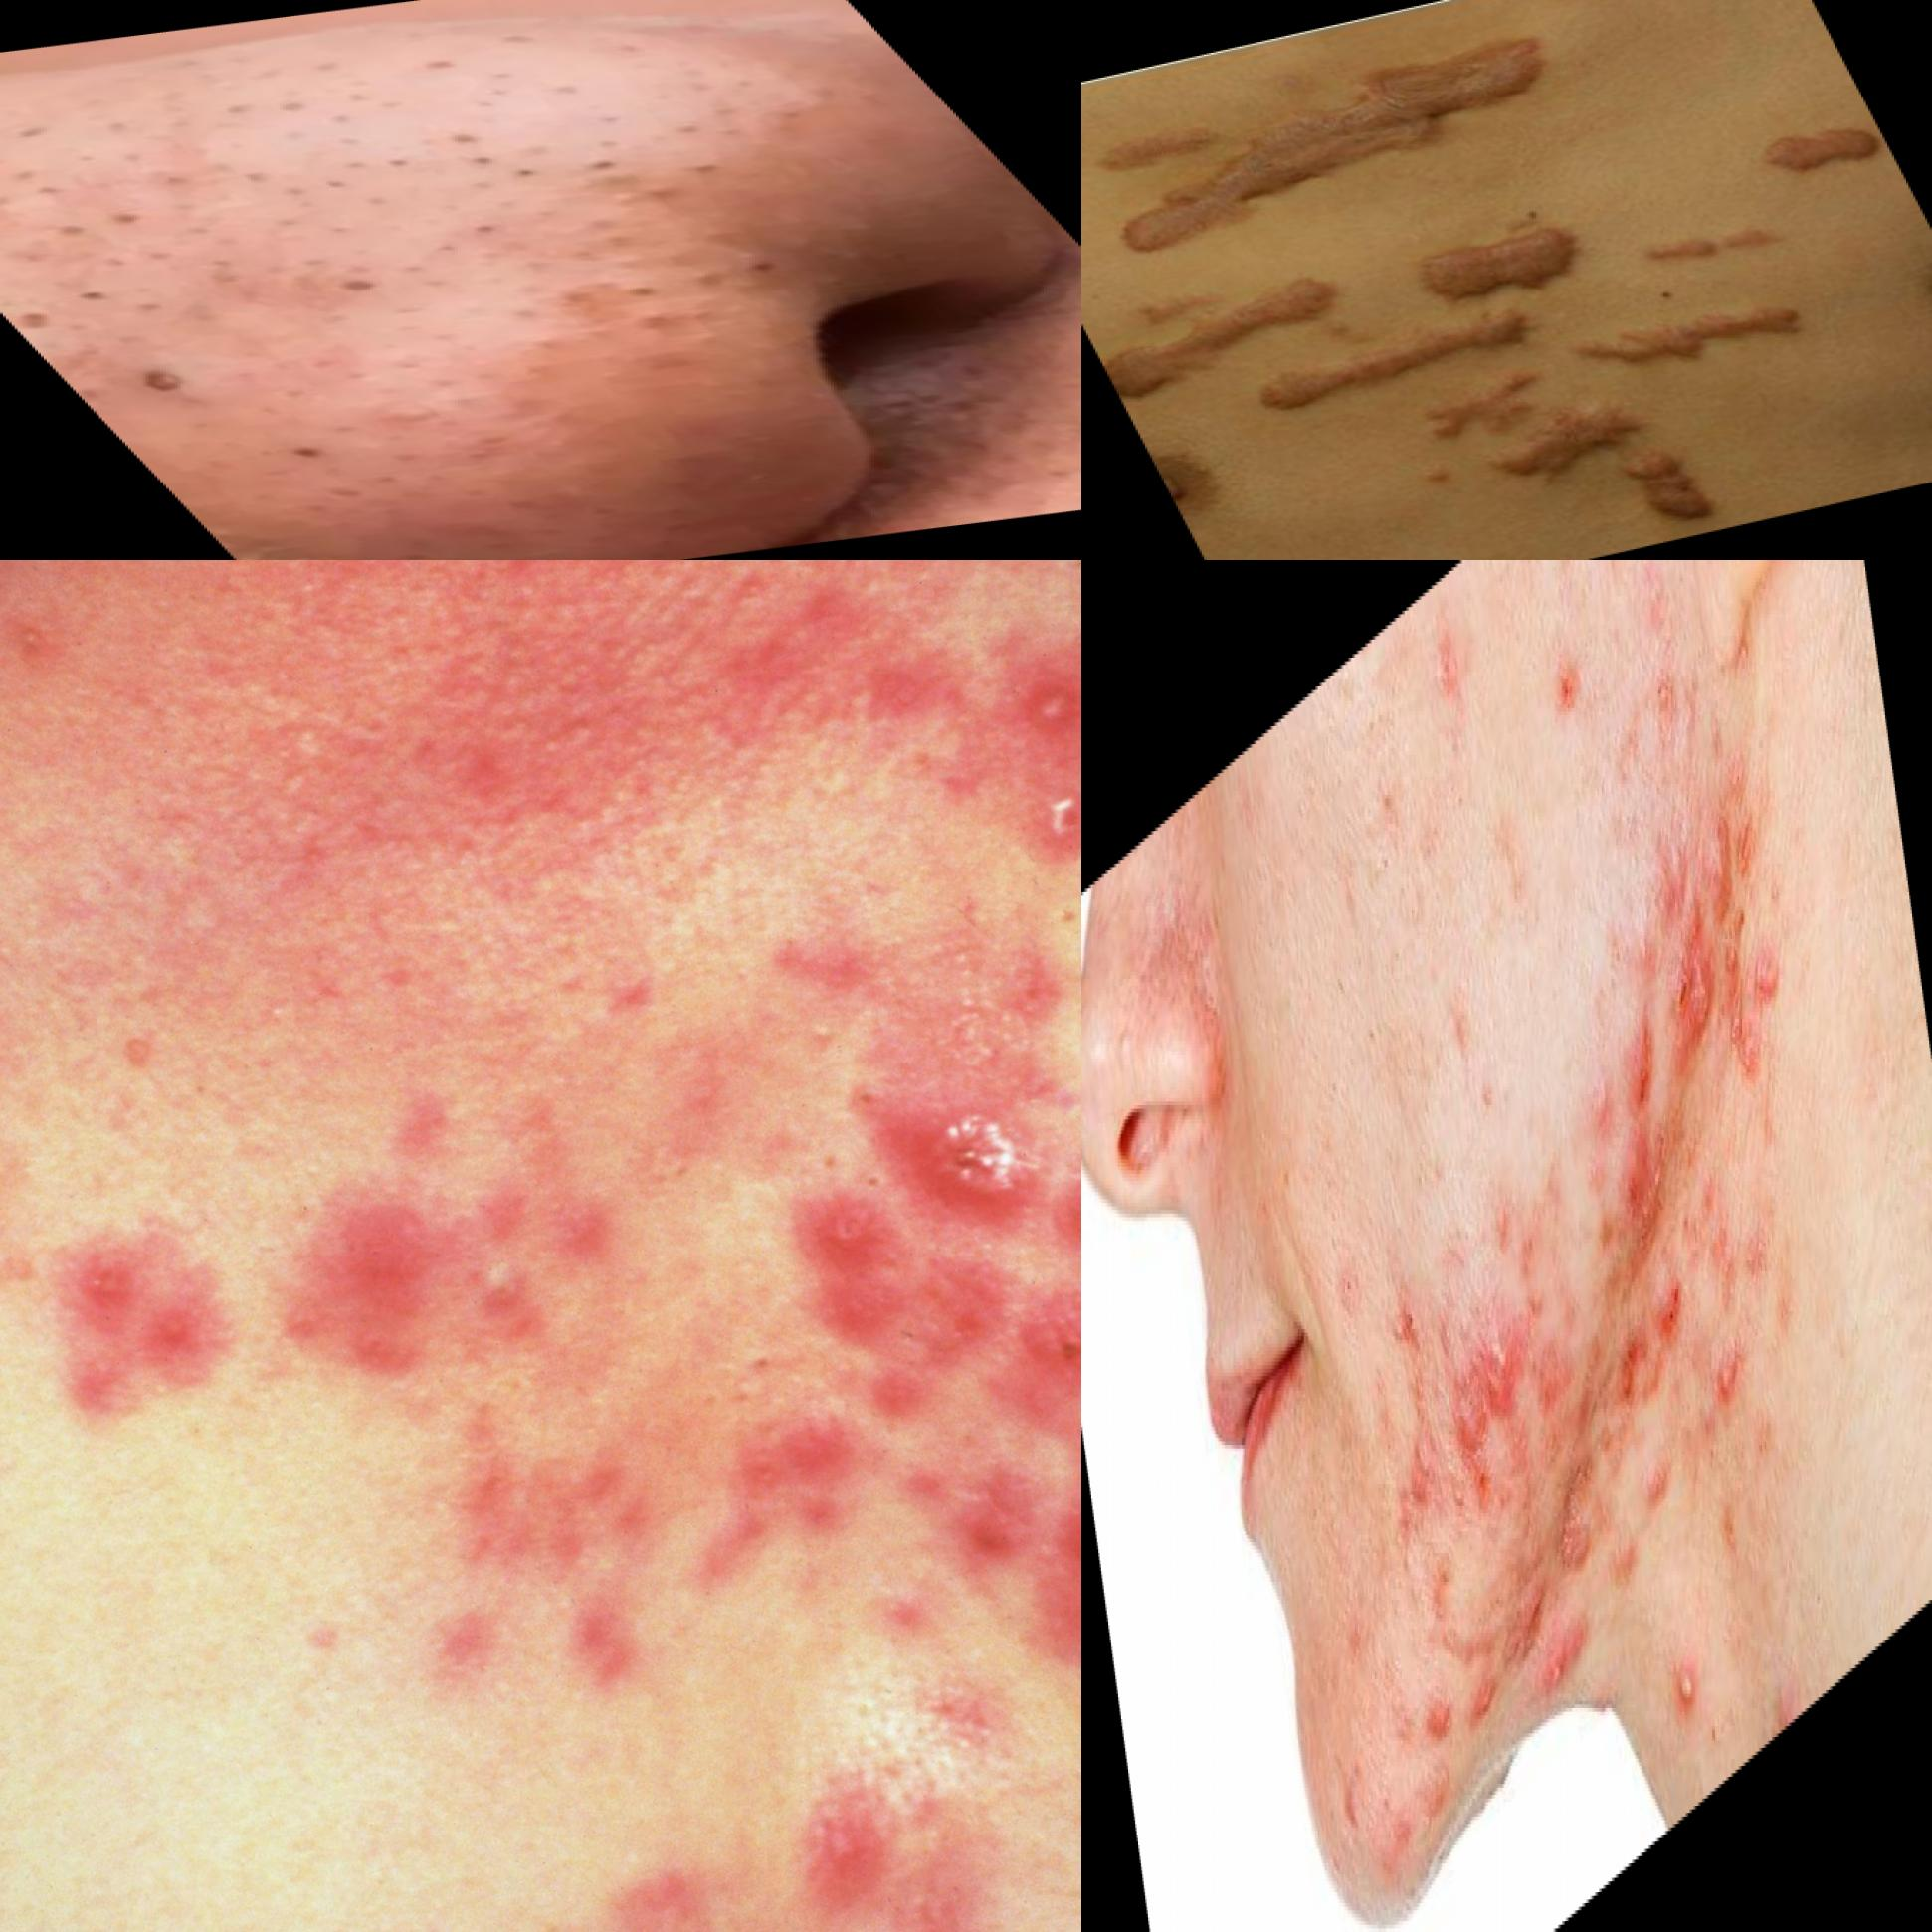acne_scars: (1695, 752, 1769, 945), (1536, 1435, 1606, 1598), (1522, 1306, 1575, 1447)
blackhead: (418, 106, 784, 211), (529, 244, 890, 340), (1316, 1162, 1392, 1384), (1422, 690, 1495, 888), (251, 255, 455, 324), (7, 196, 193, 260), (1355, 736, 1417, 916), (2, 265, 129, 343), (113, 347, 239, 414), (237, 418, 386, 472)
keloid: (1083, 23, 1612, 269), (1230, 288, 1562, 426), (1083, 257, 1382, 398), (1550, 278, 1833, 393), (1445, 386, 1681, 499), (1389, 214, 1610, 320), (1389, 359, 1576, 458), (1622, 205, 1801, 283), (1603, 433, 1729, 540), (1736, 110, 1895, 189)
papular: (28, 1192, 299, 1454), (734, 1145, 964, 1396), (757, 1769, 936, 1932), (993, 1537, 1083, 1796), (1539, 621, 1596, 761), (1594, 1491, 1649, 1621), (1415, 1658, 1465, 1773), (1707, 1307, 1753, 1428), (1465, 1649, 1513, 1759), (1638, 1428, 1681, 1525)
purulent: (432, 1226, 582, 1355), (1005, 637, 1083, 764), (1658, 1614, 1716, 1769), (1635, 632, 1693, 777)
sebo-crystan-conglo: (1583, 971, 1683, 1292), (1594, 1226, 1714, 1442), (1437, 1277, 1536, 1516), (915, 1085, 1083, 1219), (1514, 1555, 1612, 1746), (1654, 886, 1730, 1102), (1744, 888, 1801, 1033)
whitehead: (1371, 1467, 1437, 1681)
